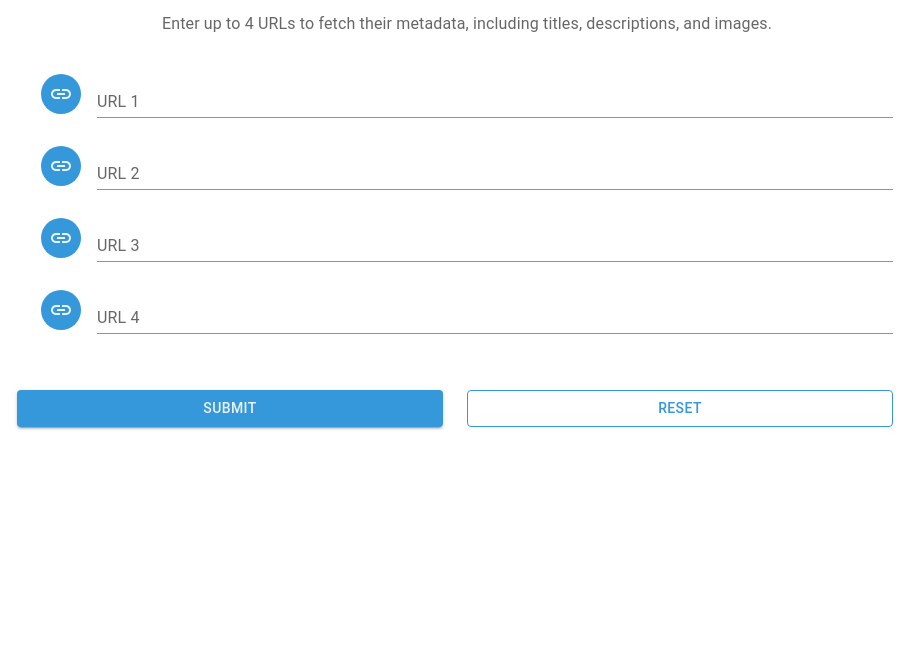
Test: UrlForm Component › should render metadata cards when valid URLs are submitted
This screenshot has width=910, height=667.
Type "https://example.com" into the field labelled "URL 1".
click(495, 102); type("https://example.com")  # box [97,86,893,118]
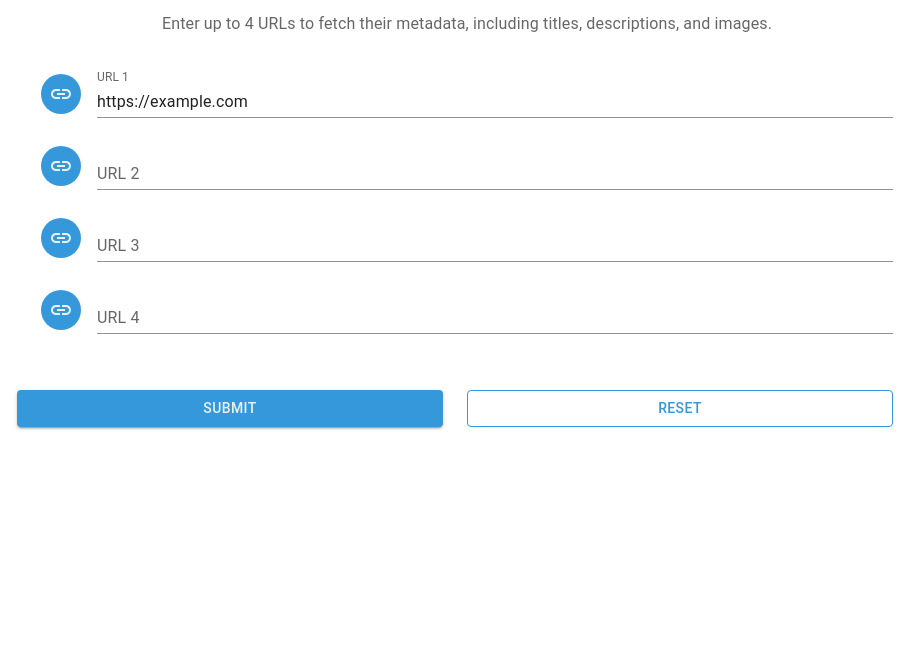
Click the button "Submit".
click(230, 408)  # box [17,390,443,426]
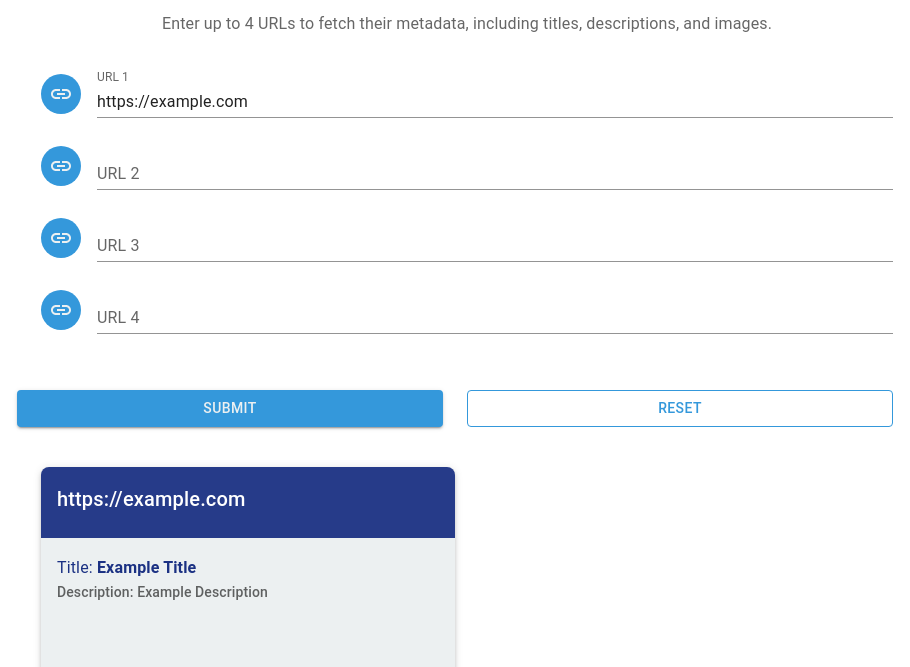
Expected: the heading "https://example.com" is shown, [57,486,246,510]
